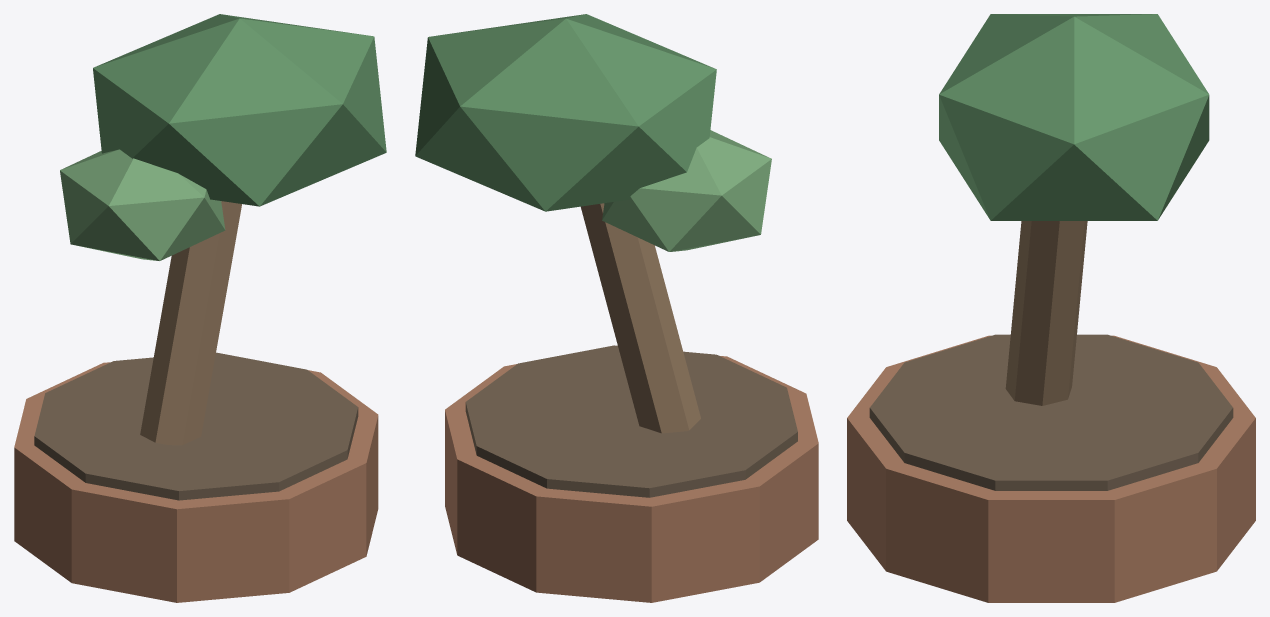
File: pla_bonsai.glb
3 views of the same model, side by side, from view 1: azimuth 30°, elevation 25°; view 2: azimuth 150°, elevation 25°; view 3: azimuth 270°, elevation 25° (orthographic). The views are drawn at different scales.
Parts seen in each view (by area): view 1: PLA_BONSAI_v01; view 2: PLA_BONSAI_v01; view 3: PLA_BONSAI_v01.
Boxes of the visible parts, bbox=[...] form: PLA_BONSAI_v01: bbox=[14, 14, 386, 602]; PLA_BONSAI_v01: bbox=[415, 14, 818, 602]; PLA_BONSAI_v01: bbox=[847, 14, 1255, 602].
Bounding box in the file's own units: 0.3815 × 0.518 × 0.36.
